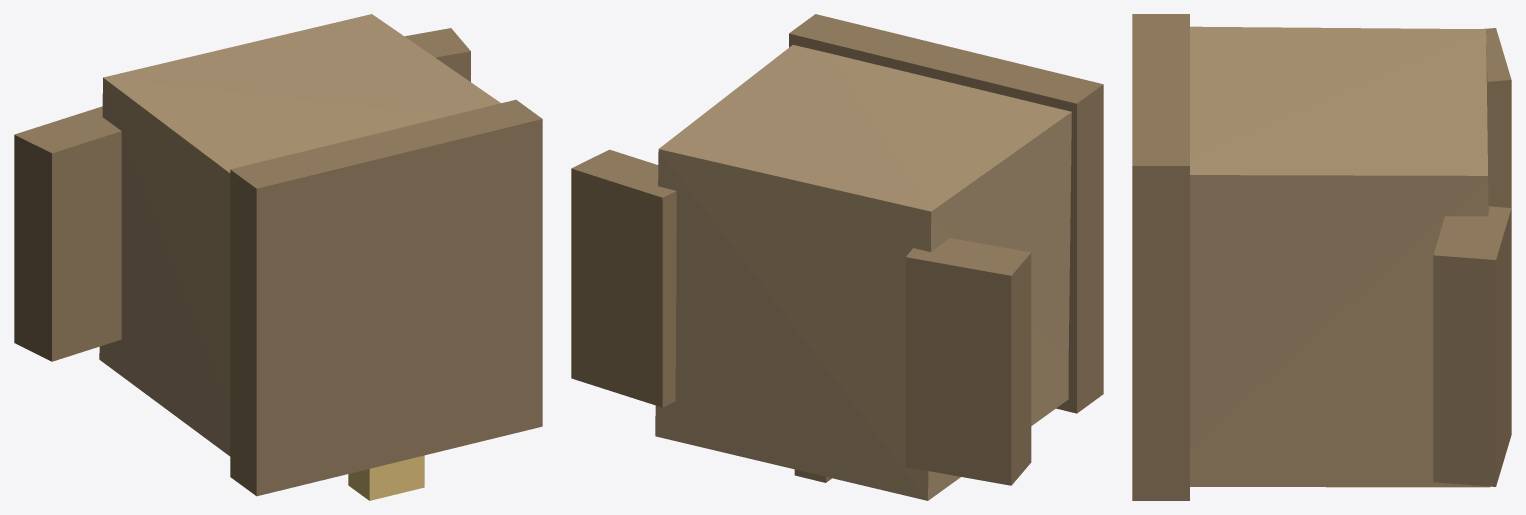
File: ChestLeather.fbx
The picture shows the model from 3 angles, left to right: view 1: azimuth 30°, elevation 25°; view 2: azimuth 150°, elevation 25°; view 3: azimuth 270°, elevation 25°; orthographic projection. The views are drawn at different scales.
Visible parts, largest first — view 1: fam_leather_dark, fam_leather, fam_gold; view 2: fam_leather, fam_leather_dark; view 3: fam_leather, fam_leather_dark.
Boxes of the visible parts, bbox=[...] form: fam_leather_dark: bbox=[14, 28, 542, 496]; fam_leather: bbox=[99, 14, 500, 456]; fam_gold: bbox=[348, 455, 424, 500]; fam_leather: bbox=[655, 45, 1071, 500]; fam_leather_dark: bbox=[571, 14, 1103, 485]; fam_leather: bbox=[1190, 26, 1490, 487]; fam_leather_dark: bbox=[1132, 14, 1511, 500].
Size of the model in its own units: 5.56 by 4.16 by 3.84.
